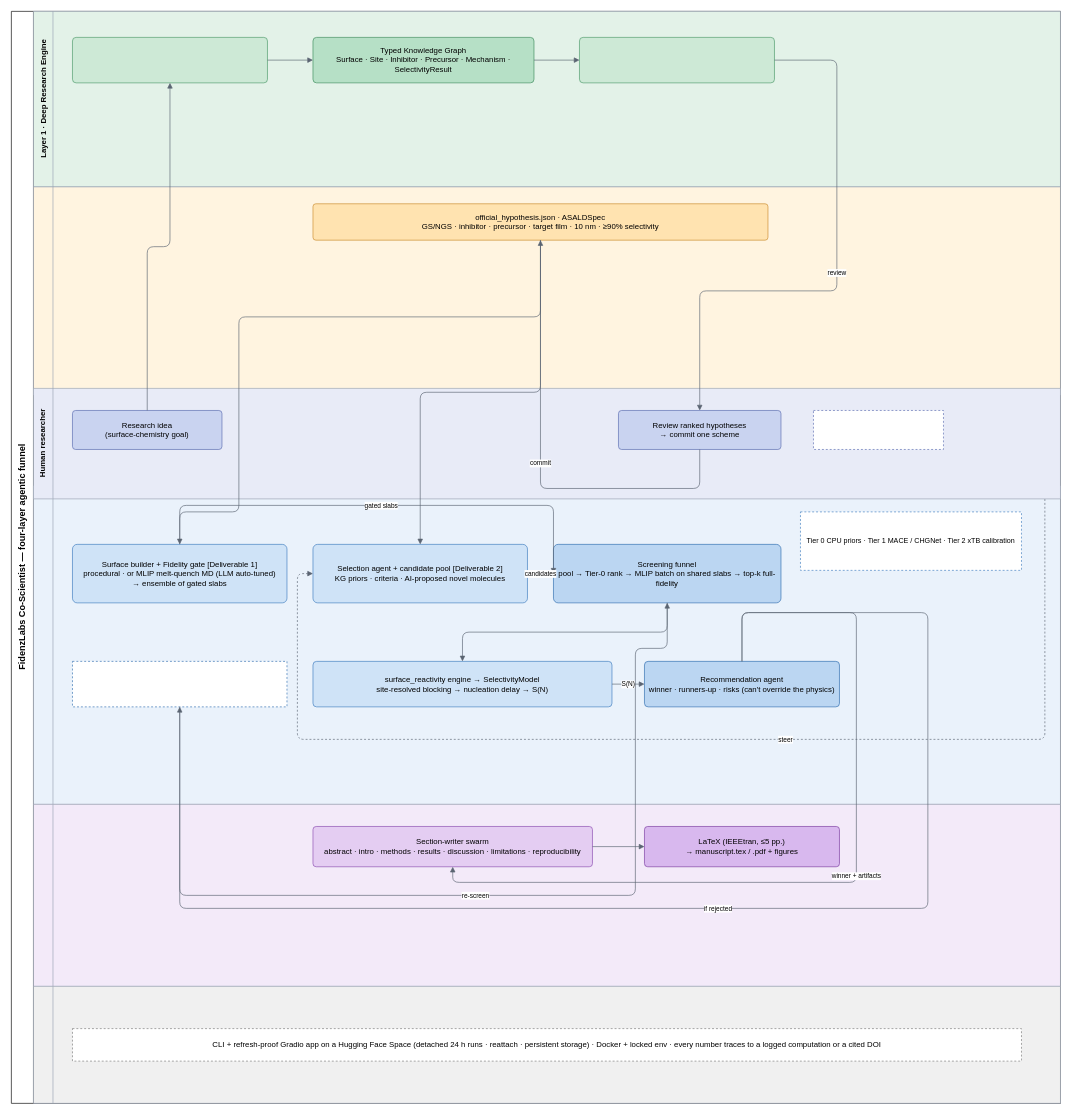
Image size: 1072x1115. Some labels were removed from this diagram. Here are the shapes that lost their labels. From the top down, the box of each, then its label:
(72, 37, 267, 83): Source swarm arXiv · OpenAlex · Crossref · PubMed · Semantic Scholar + seed DOIs
(579, 37, 774, 83): Hypothesis agent → ranked intervention hypotheses
(33, 186, 1060, 395): Layer 2 · Human-in-the-loop commitment
(813, 410, 943, 449): selection_criteria.md (human steer)
(33, 485, 1060, 804): Layer 3 · In-silico Validation & Screening
(72, 661, 287, 707): Reflection / generational re-design failed campaign → new AI-designed generation
(33, 804, 1060, 986): Layer 4 · Autonomous Manuscript
(33, 986, 1060, 1103): Delivery & Reproducibility
